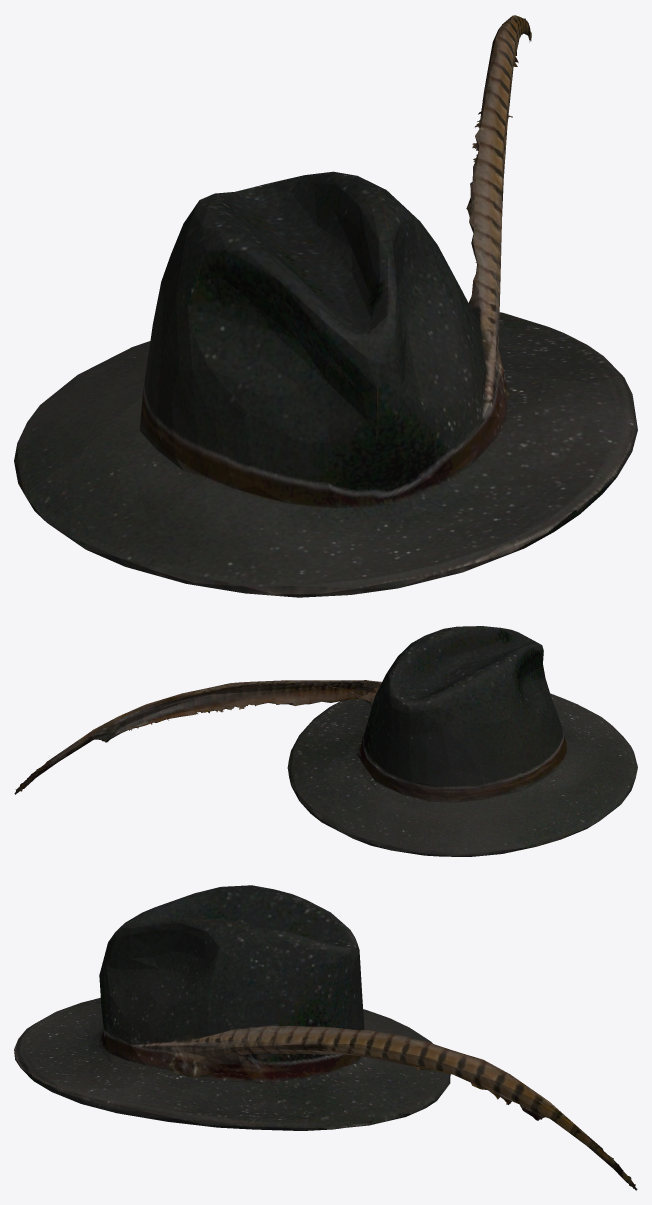
The model's file is 115510A8-7CFA-7A4F-9469-949770CC86C9_512.glb.
3 views of the same model, one above another, from view 1: azimuth 30°, elevation 25°; view 2: azimuth 150°, elevation 25°; view 3: azimuth 270°, elevation 25° (orthographic). The views are drawn at different scales.
Parts seen in each view (by area): view 1: Fasanenfederhut_3k_512; view 2: Fasanenfederhut_3k_512; view 3: Fasanenfederhut_3k_512.
Part boxes in pixels (box(x1,y1,x2,y2)): Fasanenfederhut_3k_512: box(14, 15, 637, 597); Fasanenfederhut_3k_512: box(14, 626, 637, 856); Fasanenfederhut_3k_512: box(14, 885, 637, 1190).
Size of the model in its own units: 0.4446 by 0.1445 by 0.4712.
Materials: 1 (1 with a texture image).
